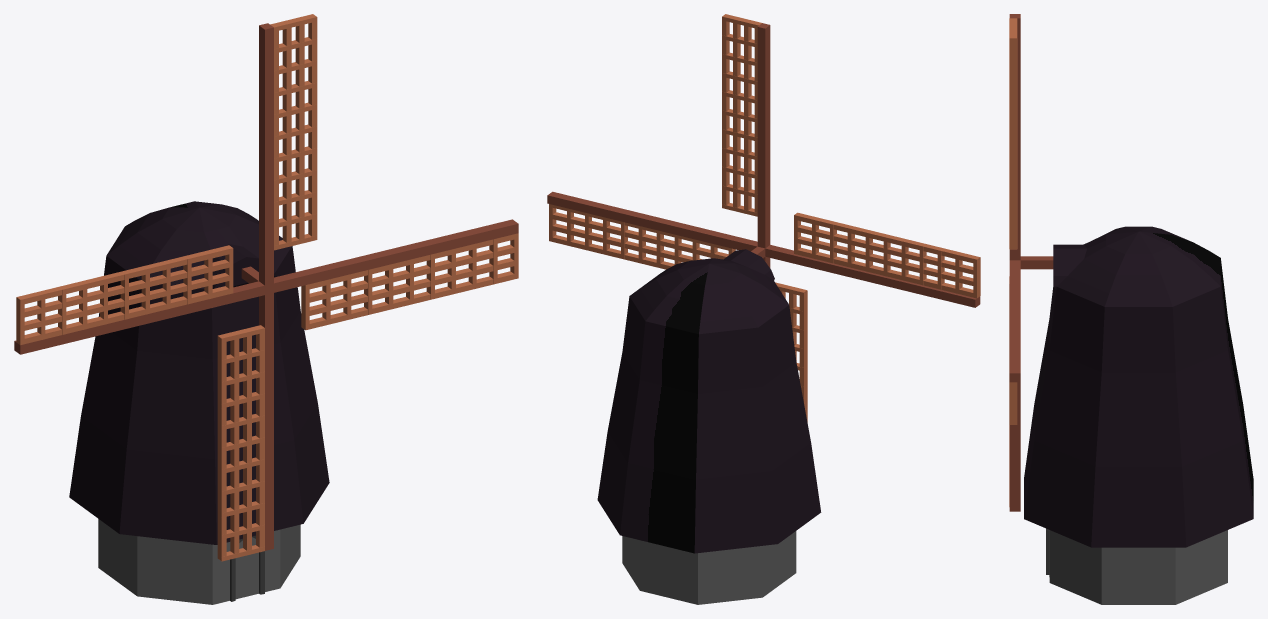
Rendered from windmolen.fbx.
3 renders of one model, left to right at view 1: azimuth 30°, elevation 25°; view 2: azimuth 150°, elevation 25°; view 3: azimuth 270°, elevation 25°, orthographic. The views are drawn at different scales.
Parts seen in each view (by area): view 1: Windmolen; view 2: Windmolen; view 3: Windmolen.
Part boxes in pixels (x1,y1,x2,y2): Windmolen: (14, 14, 518, 604); Windmolen: (547, 14, 980, 604); Windmolen: (1009, 14, 1253, 604).
Bounding box in the file's own units: 14.96 × 16.74 × 6.71.
